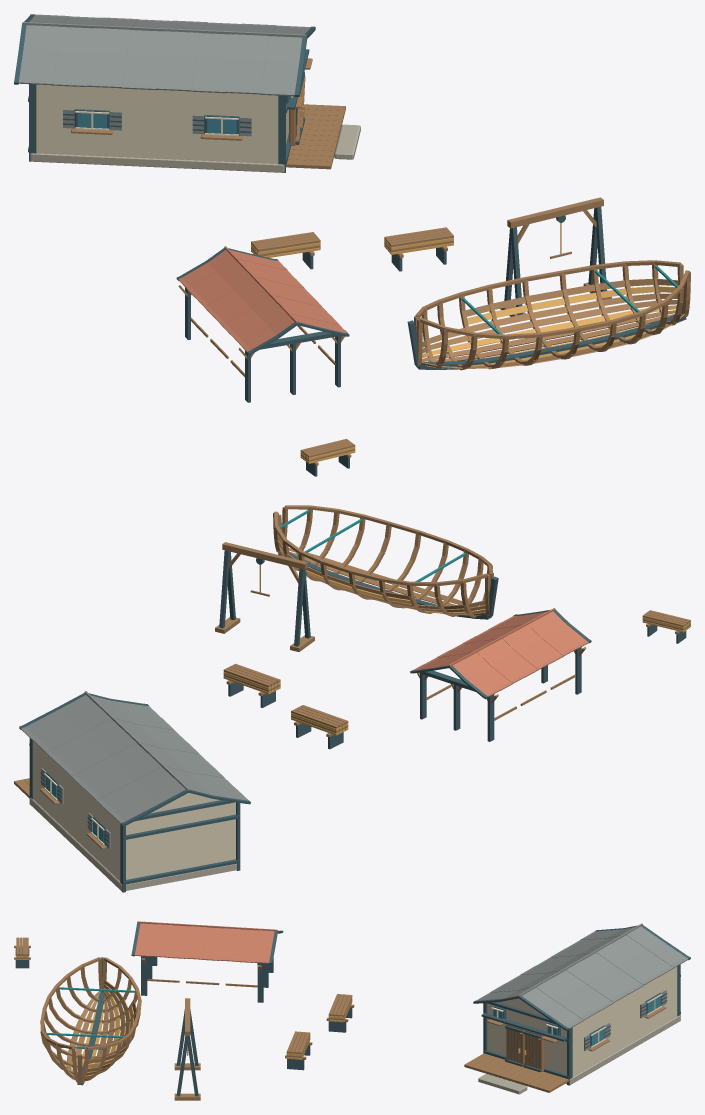
File: 08_Shipyard.glb
3 renders of one model, top to bottom at view 1: azimuth 30°, elevation 25°; view 2: azimuth 150°, elevation 25°; view 3: azimuth 270°, elevation 25°, orthographic. The views are drawn at different scales.
Visible parts, largest first — view 1: Great shipwright hall_062, AC_Ship_Under_Construction_064, Long shipyard covered slip_063, AC_Lifting_Gantry_065, AC_Timber_Stack_067, AC_Timber_Stack_066, AC_Timber_Stack_068; view 2: Great shipwright hall_062, AC_Ship_Under_Construction_064, Long shipyard covered slip_063, AC_Lifting_Gantry_065, AC_Timber_Stack_067, AC_Timber_Stack_066, AC_Timber_Stack_068; view 3: Great shipwright hall_062, AC_Ship_Under_Construction_064, Long shipyard covered slip_063, AC_Lifting_Gantry_065, AC_Timber_Stack_066, AC_Timber_Stack_067, AC_Timber_Stack_068.
Part boxes in pixels (x1,y1,x2,y2): Great shipwright hall_062: (14,14,360,172); AC_Ship_Under_Construction_064: (407,260,690,370); Long shipyard covered slip_063: (176,246,349,402); AC_Lifting_Gantry_065: (500,197,611,316); AC_Timber_Stack_067: (384,227,453,271); AC_Timber_Stack_066: (251,232,320,269); AC_Timber_Stack_068: (300,439,355,476); Great shipwright hall_062: (14,691,250,892); AC_Ship_Under_Construction_064: (273,505,498,619); Long shipyard covered slip_063: (410,608,591,741); AC_Lifting_Gantry_065: (215,542,314,651); AC_Timber_Stack_067: (223,663,280,707); AC_Timber_Stack_066: (291,705,348,749); AC_Timber_Stack_068: (642,610,690,643); Great shipwright hall_062: (464,923,690,1094); AC_Ship_Under_Construction_064: (40,957,141,1085); Long shipyard covered slip_063: (131,921,283,1002); AC_Lifting_Gantry_065: (174,998,200,1100); AC_Timber_Stack_066: (326,994,354,1032); AC_Timber_Stack_067: (285,1031,312,1070); AC_Timber_Stack_068: (14,937,30,968).
Bounding box in the file's own units: 35.01 × 8.61 × 65.91.
